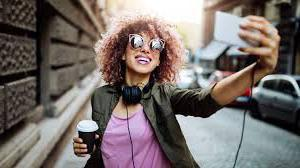face: (125, 33, 160, 75)
